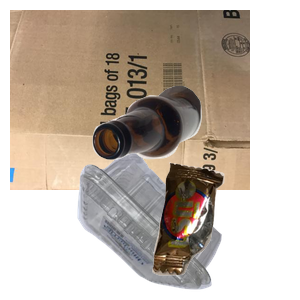cardboard: (10, 10, 250, 190)
glass: (90, 83, 300, 235)
plastic: (75, 147, 289, 300)
trash: (150, 160, 300, 300)
